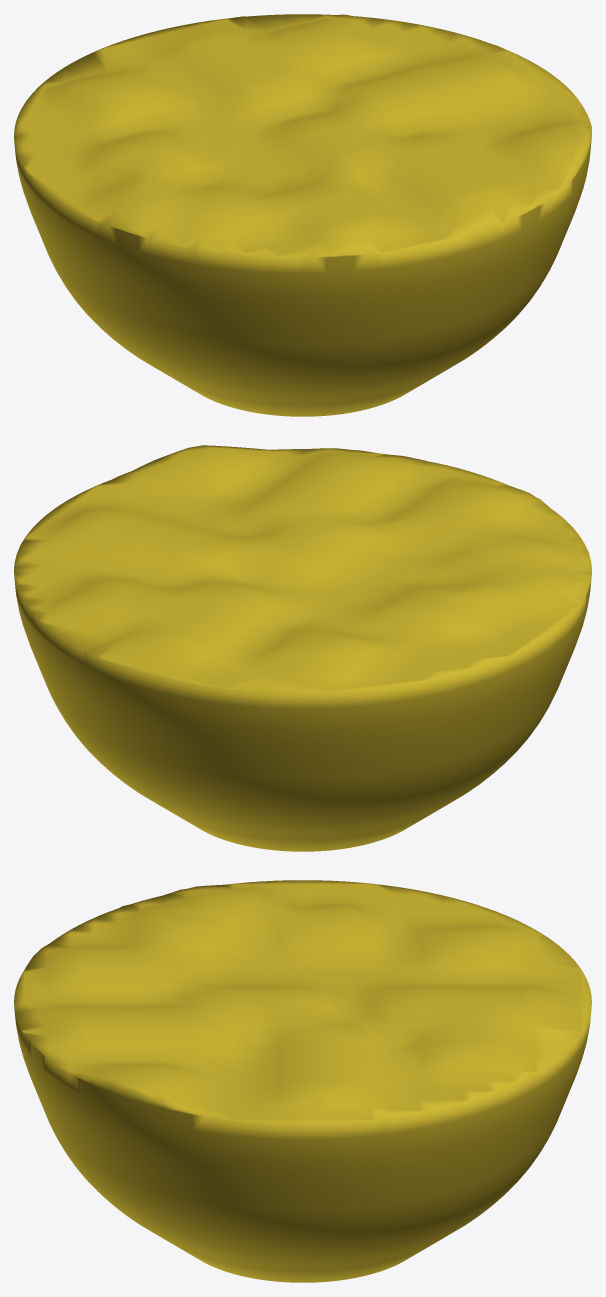
The model's file is Vulling-boter.obj.
3 views of the same model, one above another, from view 1: azimuth 30°, elevation 25°; view 2: azimuth 150°, elevation 25°; view 3: azimuth 270°, elevation 25° (orthographic).
Parts seen in each view (by area): view 1: vulling_Material.002; view 2: vulling_Material.002; view 3: vulling_Material.002.
Boxes of the visible parts, x1,y1,x2,y2 form: vulling_Material.002: [14, 14, 591, 416]; vulling_Material.002: [14, 445, 591, 851]; vulling_Material.002: [14, 880, 591, 1282].
Bounding box in the file's own units: 18.68 × 8.51 × 18.68.
